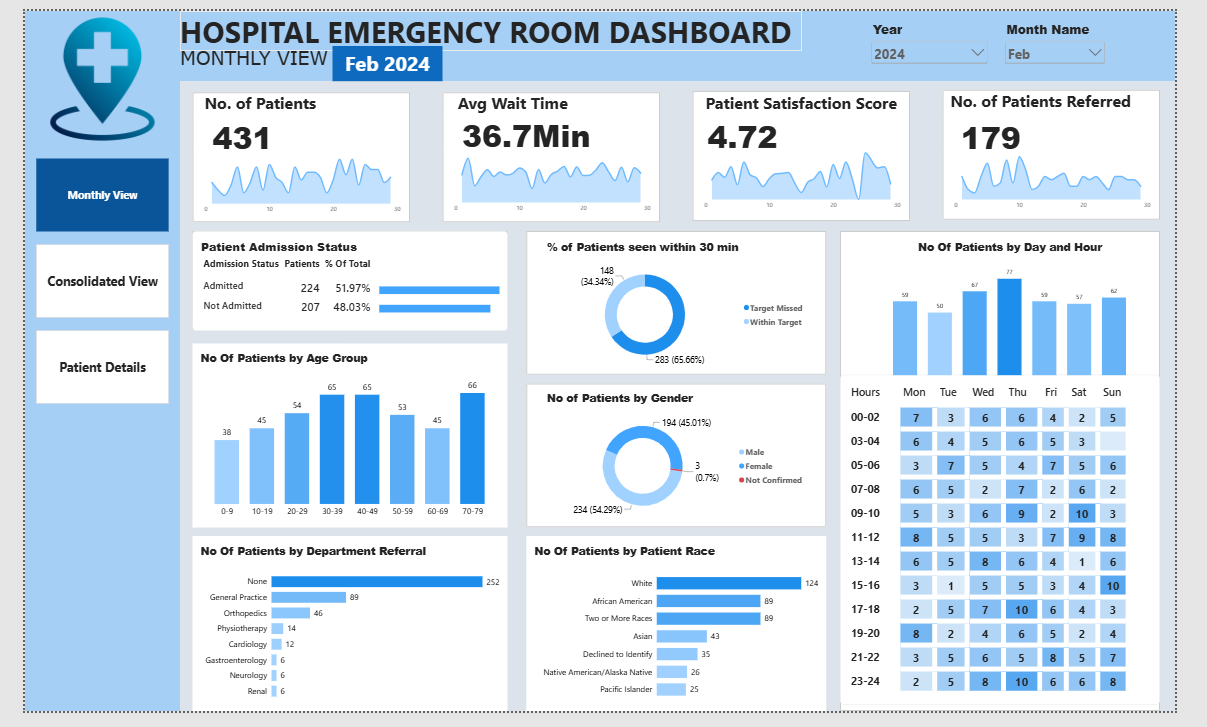

The page's visual inventory and layout, read from the dashboard file:
{"tool":"powerbi","page":{"name":"Monthly View ","canvas":[2300,1400],"ordinal":0},"visuals":[{"type":"shape","box":[0,0,310,1400.5],"z":0},{"type":"shape","box":[335,162.5,435,260],"z":1000},{"type":"shape","box":[309.1,0,1990.2,140],"z":2000},{"type":"textbox","box":[310,0,1245,80],"z":3000},{"type":"textbox","box":[310,70,305,70],"z":4000},{"type":"areaChart","fields":{"Category":["Date Table.Date.Variation.Date Hierarchy.Day"],"Y":["Hospital ER_Data.No Of Patients"]},"box":[335,257.5,435,167.5],"z":5000},{"type":"card","fields":{"Values":["Hospital ER_Data.No Of Patients"]},"box":[335,207.5,200,85],"z":6000},{"type":"slicer","fields":{"Values":["Date Table.Year"]},"box":[1687.5,20,242.5,95],"z":7000},{"type":"shape","box":[835,162.5,435,260],"z":8000},{"type":"slicer","fields":{"Values":["Date Table.Month Name"]},"box":[1955,20,210,95],"z":9000},{"type":"textbox","box":[335,162.5,280,60],"z":10000},{"type":"card","fields":{"Values":["Min(Date Table.Month & Year)"]},"box":[615,70,220,70],"z":11000},{"type":"shape","box":[1335,160.5,435,260],"z":12000},{"type":"card","fields":{"Values":["Hospital ER_Data.Avg Wait Time"]},"box":[855,200,295,92.5],"z":13000},{"type":"textbox","box":[835,162.5,290,67.5],"z":14000},{"type":"areaChart","fields":{"Category":["Date Table.Date.Variation.Date Hierarchy.Day"],"Y":["Avg(Hospital ER_Data.Patient Waittime)"]},"box":[835,255,435,167.5],"z":15000},{"type":"areaChart","fields":{"Category":["Date Table.Date.Variation.Date Hierarchy.Day"],"Y":["Hospital ER_Data.Satisfaction Score"]},"box":[1335,260,435,157.5],"z":16000},{"type":"card","fields":{"Values":["Hospital ER_Data.Satisfaction Score"]},"box":[1335,207.5,200,82.5],"z":17000},{"type":"textbox","box":[1335,162.5,435,45],"z":18000},{"type":"shape","box":[335,440,630,177],"z":19000},{"type":"pivotTable","title":"Patient Admission Status ","fields":{"Rows":["Hospital ER_Data.Admission Status"],"Values":["Hospital ER_Data.No Of Patients1","Hospital ER_Data.No Of Patients"]},"box":[335,440,630,200],"z":20000},{"type":"shape","box":[1835,156.5,435,260],"z":21000},{"type":"shape","box":[1002.5,1050,600,350],"z":22000},{"type":"areaChart","fields":{"Category":["Date Table.Date.Variation.Date Hierarchy.Day"],"Y":["Hospital ER_Data.No of Patient Referred"]},"box":[1835,255,435,162.5],"z":23000},{"type":"card","fields":{"Values":["Hospital ER_Data.No of Patient Referred"]},"box":[1834.1,207.3,192.7,85.4],"z":24000},{"type":"textbox","box":[1835,157.5,410,50],"z":25000},{"type":"barChart","fields":{"Category":["Hospital ER_Data.Admission Status"],"Y":["Hospital ER_Data.No Of Patients"]},"box":[692.5,510,272.5,130],"z":26000},{"type":"shape","box":[335,665,630,368],"z":27000},{"type":"clusteredColumnChart","fields":{"Category":["Hospital ER_Data.Age Group"],"Y":["Hospital ER_Data.No Of Patients"]},"box":[335,665,630,367.5],"z":28000},{"type":"shape","box":[1002.5,745,600,287.5],"z":29000},{"type":"shape","box":[1002.5,440,600,287.5],"z":30000},{"type":"shape","box":[335,1050,630,350],"z":31000},{"type":"clusteredBarChart","fields":{"Category":["Hospital ER_Data.Department Referral"],"Y":["Hospital ER_Data.No Of Patients"]},"box":[335,1050,630,350],"z":32000},{"type":"donutChart","title":"% of Patients seen within  30 min","fields":{"Category":["Hospital ER_Data.Wait time Status"],"Y":["Hospital ER_Data.No Of Patients"]},"box":[1027.5,442.5,552.5,285],"z":33000},{"type":"donutChart","title":"No of Patients by Gender ","fields":{"Category":["Hospital ER_Data.Patient Gender"],"Y":["Hospital ER_Data.No Of Patients"]},"box":[1027.5,745,552.5,285],"z":34000},{"type":"clusteredBarChart","fields":{"Category":["Hospital ER_Data.Patient Race"],"Y":["Hospital ER_Data.No Of Patients"]},"box":[1002.5,1050,600,350],"z":35000},{"type":"shape","box":[1630,440,640,960],"z":36000},{"type":"pivotTable","fields":{"Columns":["Date Table.Day Name"],"Rows":["Hospital ER_Data.Waittime Interval"],"Values":["Hospital ER_Data.No Of Patients"]},"box":[1630,727.5,640,660],"z":37000},{"type":"columnChart","title":"No Of Patients by Day and Hour ","fields":{"Category":["Date Table.Day Name"],"Y":["Hospital ER_Data.No Of Patients"]},"box":[1720,442.5,500,302.5],"z":38000},{"type":"image","box":[22.5,12.5,265,247.5],"z":39000},{"type":"pageNavigator","box":[22.5,295,265,490],"z":39001}]}

Visuals, with their boxes in screenshot pixels (x1, y1, x2, y2), scaled from the page's 2300x1400 canvas onto the 1207x727 screenshot:
shape: select_region(0, 0, 163, 726)
shape: select_region(176, 84, 404, 219)
shape: select_region(162, 0, 1206, 73)
textbox: select_region(163, 0, 816, 42)
textbox: select_region(163, 36, 323, 73)
areaChart - Date Table.Date.Variation.Date Hierarchy.Day x Hospital ER_Data.No Of Patients: select_region(176, 134, 404, 221)
card - Hospital ER_Data.No Of Patients: select_region(176, 108, 281, 152)
slicer - Date Table.Year: select_region(886, 10, 1013, 60)
shape: select_region(438, 84, 666, 219)
slicer - Date Table.Month Name: select_region(1026, 10, 1136, 60)
textbox: select_region(176, 84, 323, 116)
card - Min(Date Table.Month & Year): select_region(323, 36, 438, 73)
shape: select_region(701, 83, 929, 218)
card - Hospital ER_Data.Avg Wait Time: select_region(449, 104, 604, 152)
textbox: select_region(438, 84, 590, 119)
areaChart - Date Table.Date.Variation.Date Hierarchy.Day x Avg(Hospital ER_Data.Patient Waittime): select_region(438, 132, 666, 219)
areaChart - Date Table.Date.Variation.Date Hierarchy.Day x Hospital ER_Data.Satisfaction Score: select_region(701, 135, 929, 217)
card - Hospital ER_Data.Satisfaction Score: select_region(701, 108, 806, 151)
textbox: select_region(701, 84, 929, 108)
shape: select_region(176, 228, 506, 320)
"Patient Admission Status " pivotTable: select_region(176, 228, 506, 332)
shape: select_region(963, 81, 1191, 216)
shape: select_region(526, 545, 841, 726)
areaChart - Date Table.Date.Variation.Date Hierarchy.Day x Hospital ER_Data.No of Patient Referred: select_region(963, 132, 1191, 217)
card - Hospital ER_Data.No of Patient Referred: select_region(963, 108, 1064, 152)
textbox: select_region(963, 82, 1178, 108)
barChart - Hospital ER_Data.Admission Status x Hospital ER_Data.No Of Patients: select_region(363, 265, 506, 332)
shape: select_region(176, 345, 506, 536)
clusteredColumnChart - Hospital ER_Data.Age Group x Hospital ER_Data.No Of Patients: select_region(176, 345, 506, 536)
shape: select_region(526, 387, 841, 536)
shape: select_region(526, 228, 841, 378)
shape: select_region(176, 545, 506, 726)
clusteredBarChart - Hospital ER_Data.Department Referral x Hospital ER_Data.No Of Patients: select_region(176, 545, 506, 726)
"% of Patients seen within  30 min" donutChart: select_region(539, 230, 829, 378)
"No of Patients by Gender " donutChart: select_region(539, 387, 829, 535)
clusteredBarChart - Hospital ER_Data.Patient Race x Hospital ER_Data.No Of Patients: select_region(526, 545, 841, 726)
shape: select_region(855, 228, 1191, 726)
pivotTable - Date Table.Day Name x Hospital ER_Data.Waittime Interval: select_region(855, 378, 1191, 721)
"No Of Patients by Day and Hour " columnChart: select_region(903, 230, 1165, 387)
image: select_region(12, 6, 151, 135)
pageNavigator: select_region(12, 153, 151, 408)
